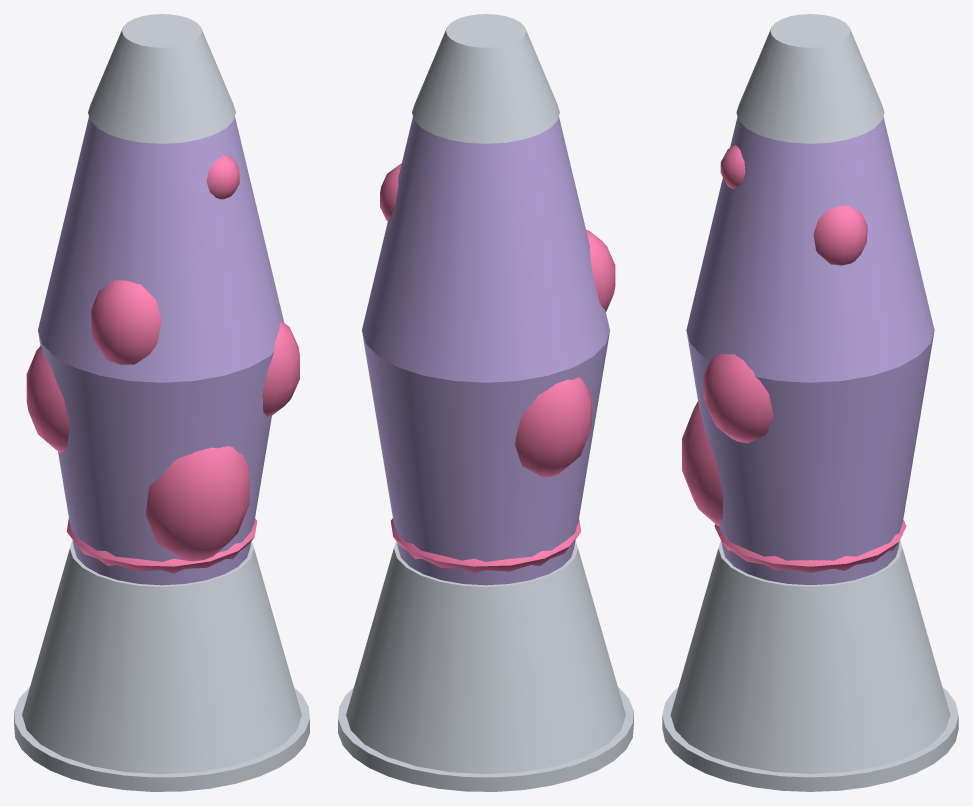
The model's file is pow_lavalampe.glb.
3 renders of one model, left to right at view 1: azimuth 30°, elevation 25°; view 2: azimuth 150°, elevation 25°; view 3: azimuth 270°, elevation 25°, orthographic.
Visible parts, largest first — view 1: pow_lavalampe; view 2: pow_lavalampe; view 3: pow_lavalampe.
Part boxes in pixels (left/top/right/bottom): pow_lavalampe: left=14, top=14, right=309, bottom=791; pow_lavalampe: left=338, top=14, right=633, bottom=791; pow_lavalampe: left=662, top=14, right=958, bottom=791.
Bounding box in the file's own units: 0.296 × 0.77 × 0.296.
